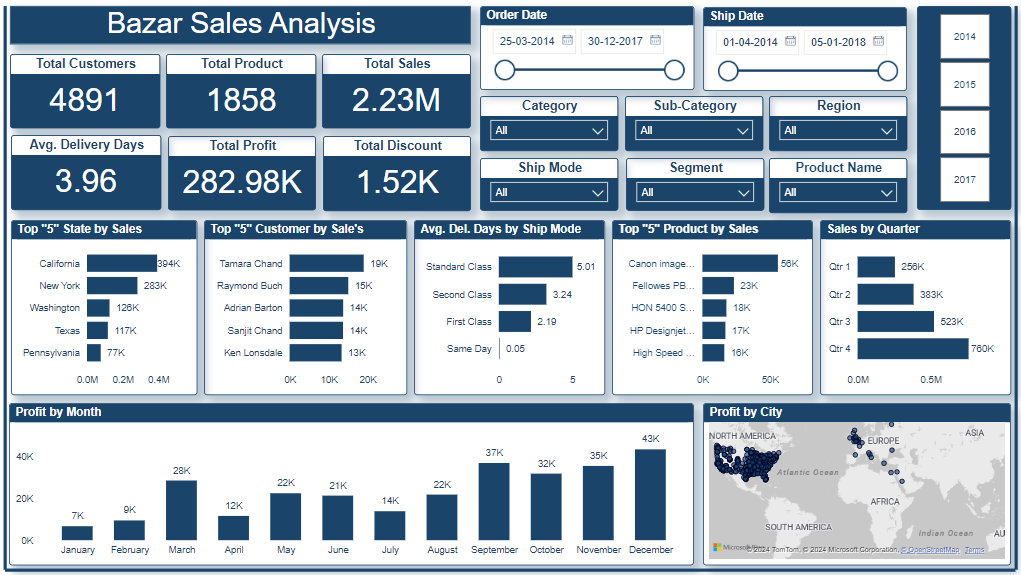

The page's visual inventory and layout, read from the dashboard file:
{"tool":"powerbi","page":{"name":"Page 2","canvas":[1280,720],"ordinal":1},"visuals":[{"type":"actionButton","title":"Bazar Sales Analysis","box":[16.2,8.8,576.2,47.5],"z":0},{"type":"slicer","title":"Category","fields":{"Values":["Orders.Category"]},"box":[603.8,121.2,172.5,68.8],"z":1000},{"type":"shape","box":[10.3,707.1,1263.2,12.9],"z":2000},{"type":"shape","box":[3.9,9,12.9,704.5],"z":3000},{"type":"shape","box":[1267.1,9,12.9,704.5],"z":4000},{"type":"card","title":"Total Profit","fields":{"Values":["Sum(Orders.Profit)"]},"box":[213.8,171.2,185,92.5],"z":5000},{"type":"card","title":"Total Sales","fields":{"Values":["Sum(Orders.Sales before Discount)"]},"box":[406.2,68.8,186.2,92.5],"z":6000},{"type":"card","title":"Total Customers","fields":{"Values":["Count(Orders.Order ID)"]},"box":[16.2,68.8,187.5,92.5],"z":7000},{"type":"card","title":"Avg. Delivery Days","fields":{"Values":["Avg(Orders.No delivery Days)"]},"box":[17.5,170,187.5,93.8],"z":8000},{"type":"card","title":"Total Product","fields":{"Values":["Count(Orders.Product ID)"]},"box":[211.2,68.8,187.5,92.5],"z":9000},{"type":"card","title":"Total Discount","fields":{"Values":["Sum(Orders.Discount)"]},"box":[407.5,171.2,185,93.8],"z":10000},{"type":"barChart","title":"Avg. Del. Days by Ship Mode","fields":{"Category":["Orders.Ship Mode"],"Y":["Avg(Orders.No delivery Days)"]},"box":[521.2,276.2,238.8,218.8],"z":11000},{"type":"columnChart","title":"Profit by Month","fields":{"Category":["Orders.Order Date.Variation.Date Hierarchy.Month"],"Y":["Sum(Orders.Profit)"]},"box":[15,505,856.2,202.5],"z":12000},{"type":"barChart","title":"Sales by Quarter","fields":{"Category":["Orders.Order Date.Variation.Date Hierarchy.Quarter"],"Y":["Sum(Orders.Sales After Discount)"]},"box":[1028.8,276.2,238.8,218.8],"z":13000},{"type":"barChart","title":"Top \"5\" Customer by Sale''s","fields":{"Category":["Orders.Customer Name"],"Y":["Sum(Orders.Sales After Discount)"]},"box":[258.8,276.2,253.8,218.8],"z":14000},{"type":"map","title":"Profit by City","fields":{"Category":["Orders.City"],"Size":["Sum(Orders.Profit)"]},"box":[882.5,505,385,202.5],"z":15000},{"type":"slicer","title":"Region","fields":{"Values":["Orders.Region"]},"box":[965,121.2,172.5,68.8],"z":16000},{"type":"slicer","title":"Segment","fields":{"Values":["Orders.Segment"]},"box":[786.2,198.8,172.5,66.2],"z":17000},{"type":"slicer","title":"Sub-Category","fields":{"Values":["Orders.Sub-Category"]},"box":[784.4,121.2,172.5,68.8],"z":18000},{"type":"slicer","title":"Ship Mode","fields":{"Values":["Orders.Ship Mode"]},"box":[603.8,198.8,172.5,66.2],"z":19000},{"type":"barChart","title":"Top \"5\" Product by Sales ","fields":{"Category":["Orders.Product Name"],"Y":["Sum(Orders.Sales After Discount)"]},"box":[768.8,276.2,251.2,218.8],"z":20000},{"type":"barChart","title":"Top \"5\" State by Sales","fields":{"Category":["Orders.State"],"Y":["Sum(Orders.Sales After Discount)"]},"box":[17.5,276.2,232.5,218.8],"z":21000},{"type":"slicer","title":"Ship Date","fields":{"Values":["Orders.Ship Date"]},"box":[882.5,10,255,105],"z":21001},{"type":"slicer","title":"Order Date","fields":{"Values":["Orders.Order Date"]},"box":[603.8,8.8,267.5,105],"z":21002},{"type":"slicer","title":"Segment","fields":{"Values":["Orders.Order Date.Variation.Date Hierarchy.Year"]},"box":[1150,8.8,117.5,255],"z":21003},{"type":"slicer","title":"Product Name","fields":{"Values":["Orders.Product Name"]},"box":[965,198.8,172.5,68.8],"z":21005}]}

Visuals, with their boxes in screenshot pixels (x1, y1, x2, y2), scaled from the page's 1280x720 canvas onto the 1021x575 screenshot:
"Bazar Sales Analysis" actionButton: locate(13, 7, 473, 45)
"Category" slicer: locate(482, 97, 619, 152)
shape: locate(8, 565, 1016, 574)
shape: locate(3, 7, 13, 570)
shape: locate(1011, 7, 1020, 570)
"Total Profit" card: locate(171, 137, 318, 211)
"Total Sales" card: locate(324, 55, 473, 129)
"Total Customers" card: locate(13, 55, 162, 129)
"Avg. Delivery Days" card: locate(14, 136, 164, 211)
"Total Product" card: locate(168, 55, 318, 129)
"Total Discount" card: locate(325, 137, 473, 212)
"Avg. Del. Days by Ship Mode" barChart: locate(416, 221, 606, 395)
"Profit by Month" columnChart: locate(12, 403, 695, 565)
"Sales by Quarter" barChart: locate(821, 221, 1011, 395)
"Top "5" Customer by Sale''s" barChart: locate(206, 221, 409, 395)
"Profit by City" map: locate(704, 403, 1011, 565)
"Region" slicer: locate(770, 97, 907, 152)
"Segment" slicer: locate(627, 159, 765, 212)
"Sub-Category" slicer: locate(626, 97, 763, 152)
"Ship Mode" slicer: locate(482, 159, 619, 212)
"Top "5" Product by Sales " barChart: locate(613, 221, 814, 395)
"Top "5" State by Sales" barChart: locate(14, 221, 199, 395)
"Ship Date" slicer: locate(704, 8, 907, 92)
"Order Date" slicer: locate(482, 7, 695, 91)
"Segment" slicer: locate(917, 7, 1011, 211)
"Product Name" slicer: locate(770, 159, 907, 214)
